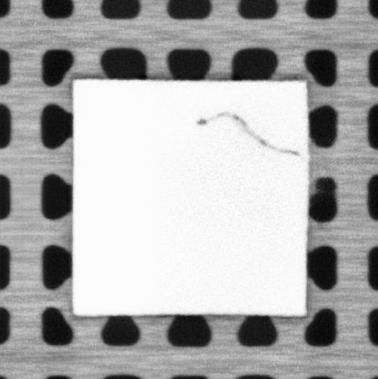DIE_INK: (194, 111, 301, 157)
